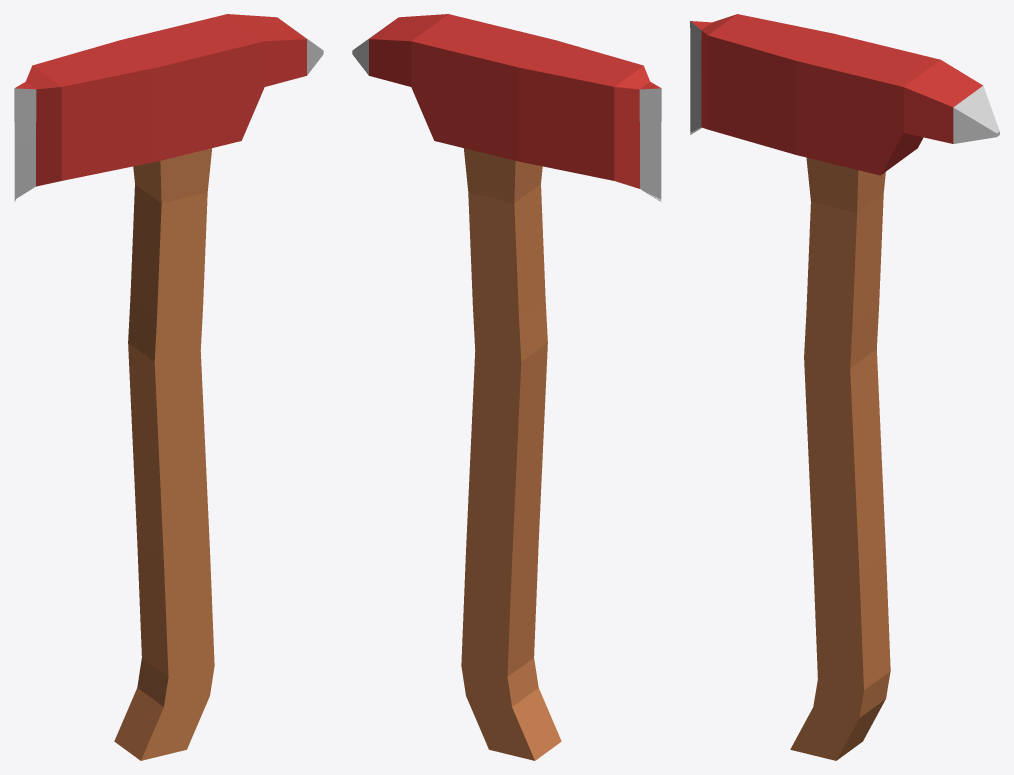
File: fireAxe.fbx
3 renders of one model, left to right at view 1: azimuth 30°, elevation 25°; view 2: azimuth 150°, elevation 25°; view 3: azimuth 330°, elevation 25°, orthographic.
Visible parts, largest first — view 1: Cube; view 2: Cube; view 3: Cube.
Boxes of the visible parts, x1,y1,x2,y2 form: Cube: (14, 14, 323, 760); Cube: (352, 14, 661, 760); Cube: (690, 14, 999, 760).
Bounding box in the file's own units: 13.36 × 28.8 × 2.8.
